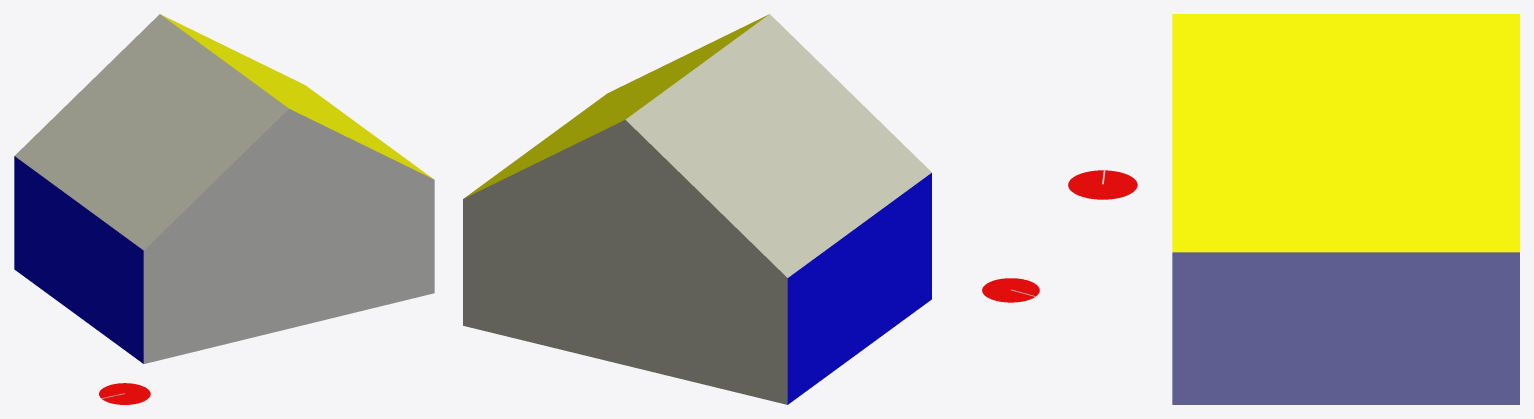
File: result.glb
3 views of the same model, side by side, from view 1: azimuth 30°, elevation 25°; view 2: azimuth 150°, elevation 25°; view 3: azimuth 270°, elevation 25° (orthographic). The views are drawn at different scales.
Parts seen in each view (by area): view 1: ea831b9a-98fc-4573-a1af-dea565caa14f__undefined, a945c9fe-050e-4714-8609-e02e4246fd1a__undefined, ba2f219e-2514-4ecb-9c62-9fe4cec1e217__undefined, f8aebbd6-93e3-4b73-a1ab-59e0308e1967__undefined, 4a632975-e45e-46b2-baea-9322e61ed4de__Circle; view 2: 7776b627-7147-481a-b8c1-7b1d934fd732__undefined, a945c9fe-050e-4714-8609-e02e4246fd1a__undefined, ba2f219e-2514-4ecb-9c62-9fe4cec1e217__undefined, f8aebbd6-93e3-4b73-a1ab-59e0308e1967__undefined, 4a632975-e45e-46b2-baea-9322e61ed4de__Circle; view 3: f8aebbd6-93e3-4b73-a1ab-59e0308e1967__undefined, f3a6b9c5-5f1e-4f7f-b9ec-b59cb8463233__undefined, 4a632975-e45e-46b2-baea-9322e61ed4de__Circle.
Part boxes in pixels (x1,y1,x2,y2): ea831b9a-98fc-4573-a1af-dea565caa14f__undefined: (143,108,434,363); a945c9fe-050e-4714-8609-e02e4246fd1a__undefined: (15,14,288,250); ba2f219e-2514-4ecb-9c62-9fe4cec1e217__undefined: (14,156,143,363); f8aebbd6-93e3-4b73-a1ab-59e0308e1967__undefined: (160,14,432,178); 4a632975-e45e-46b2-baea-9322e61ed4de__Circle: (99,383,150,404); 7776b627-7147-481a-b8c1-7b1d934fd732__undefined: (463,119,787,404); a945c9fe-050e-4714-8609-e02e4246fd1a__undefined: (625,14,931,277); ba2f219e-2514-4ecb-9c62-9fe4cec1e217__undefined: (787,173,931,404); f8aebbd6-93e3-4b73-a1ab-59e0308e1967__undefined: (464,14,768,198); 4a632975-e45e-46b2-baea-9322e61ed4de__Circle: (982,278,1039,302); f8aebbd6-93e3-4b73-a1ab-59e0308e1967__undefined: (1172,14,1519,252); f3a6b9c5-5f1e-4f7f-b9ec-b59cb8463233__undefined: (1172,252,1519,404); 4a632975-e45e-46b2-baea-9322e61ed4de__Circle: (1068,170,1137,199).
Bounding box in the file's own units: 799 × 469 × 650.
